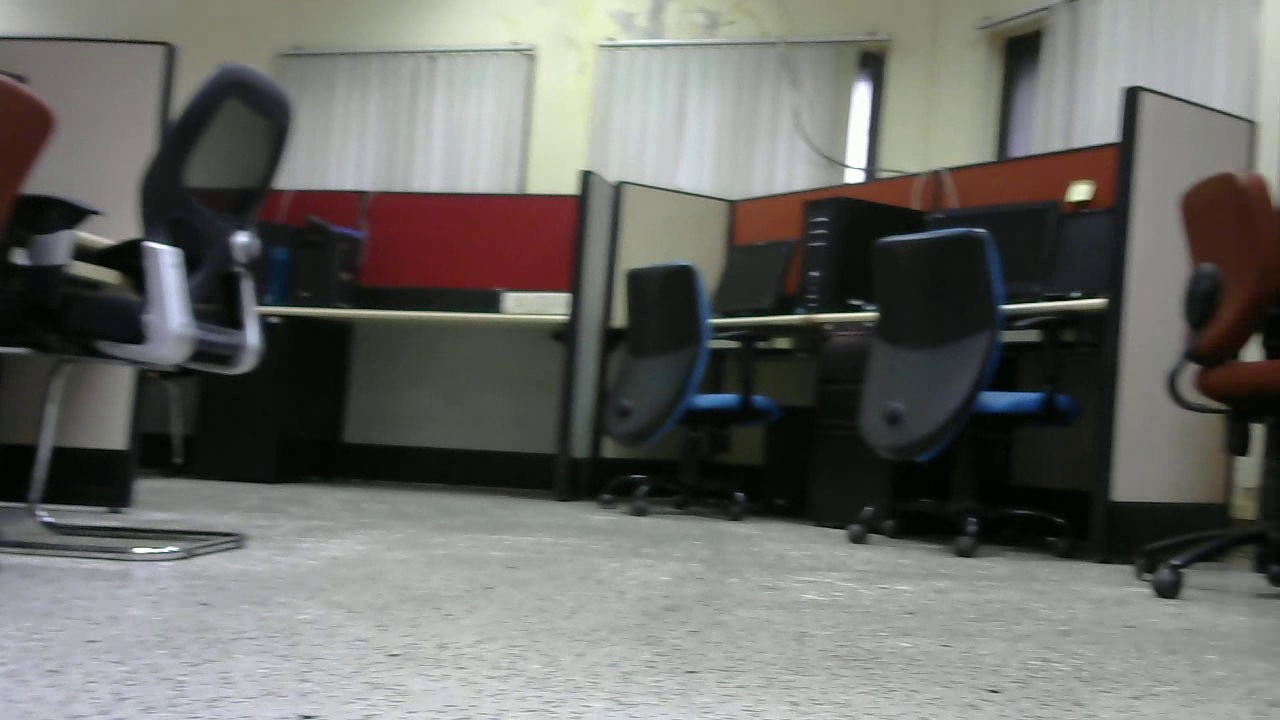chair: (11, 48, 312, 561), (821, 219, 1077, 563), (573, 258, 792, 521)
